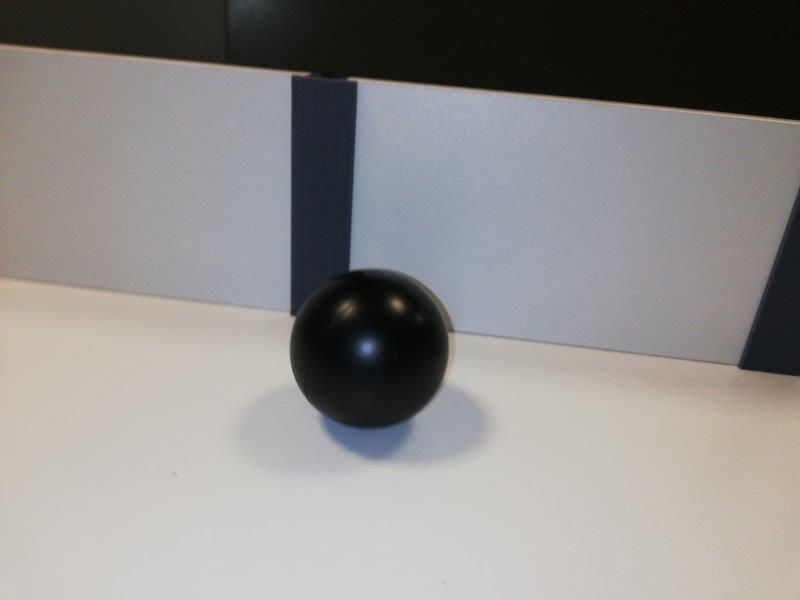nera: (288, 269, 448, 432)
